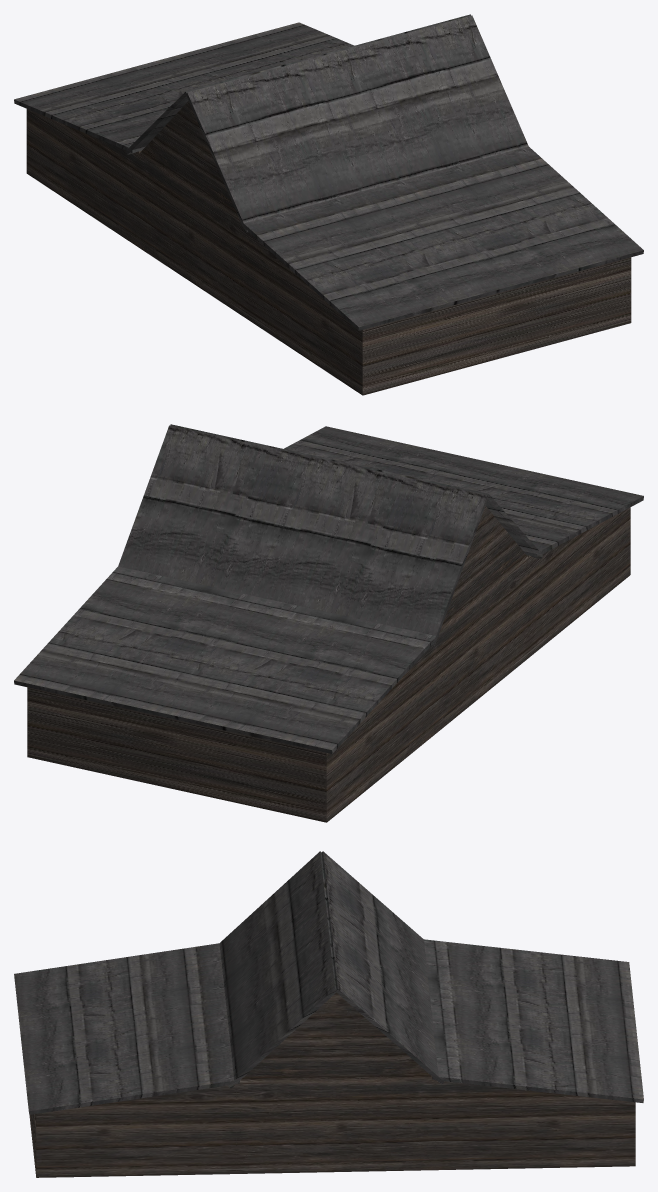
File: ta-moulton-barn-lod2.glb
3 views of the same model, one above another, from view 1: azimuth 30°, elevation 25°; view 2: azimuth 150°, elevation 25°; view 3: azimuth 270°, elevation 25° (orthographic). The views are drawn at different scales.
Parts seen in each view (by area): view 1: LOD2_weathered_shake_roof, LOD2_weathered_timber; view 2: LOD2_weathered_shake_roof, LOD2_weathered_timber; view 3: LOD2_weathered_shake_roof, LOD2_weathered_timber.
Part boxes in pixels (x1,y1,x2,y2): LOD2_weathered_shake_roof: (14,14,643,330); LOD2_weathered_timber: (26,101,631,395); LOD2_weathered_shake_roof: (14,424,643,753); LOD2_weathered_timber: (27,506,630,822); LOD2_weathered_shake_roof: (14,851,643,1114); LOD2_weathered_timber: (29,992,635,1177).
Size of the model in its own units: 10.21 by 5.98 by 18.21.
2 materials, 2 textured.
